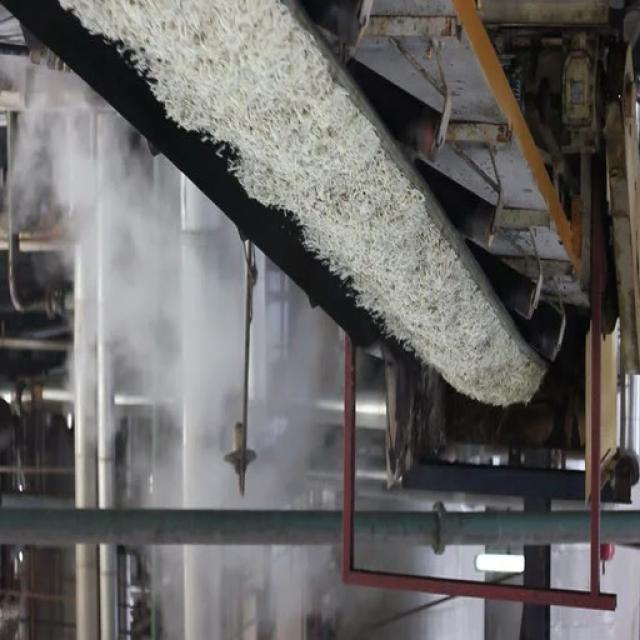conveyor: (0, 2, 538, 389)
